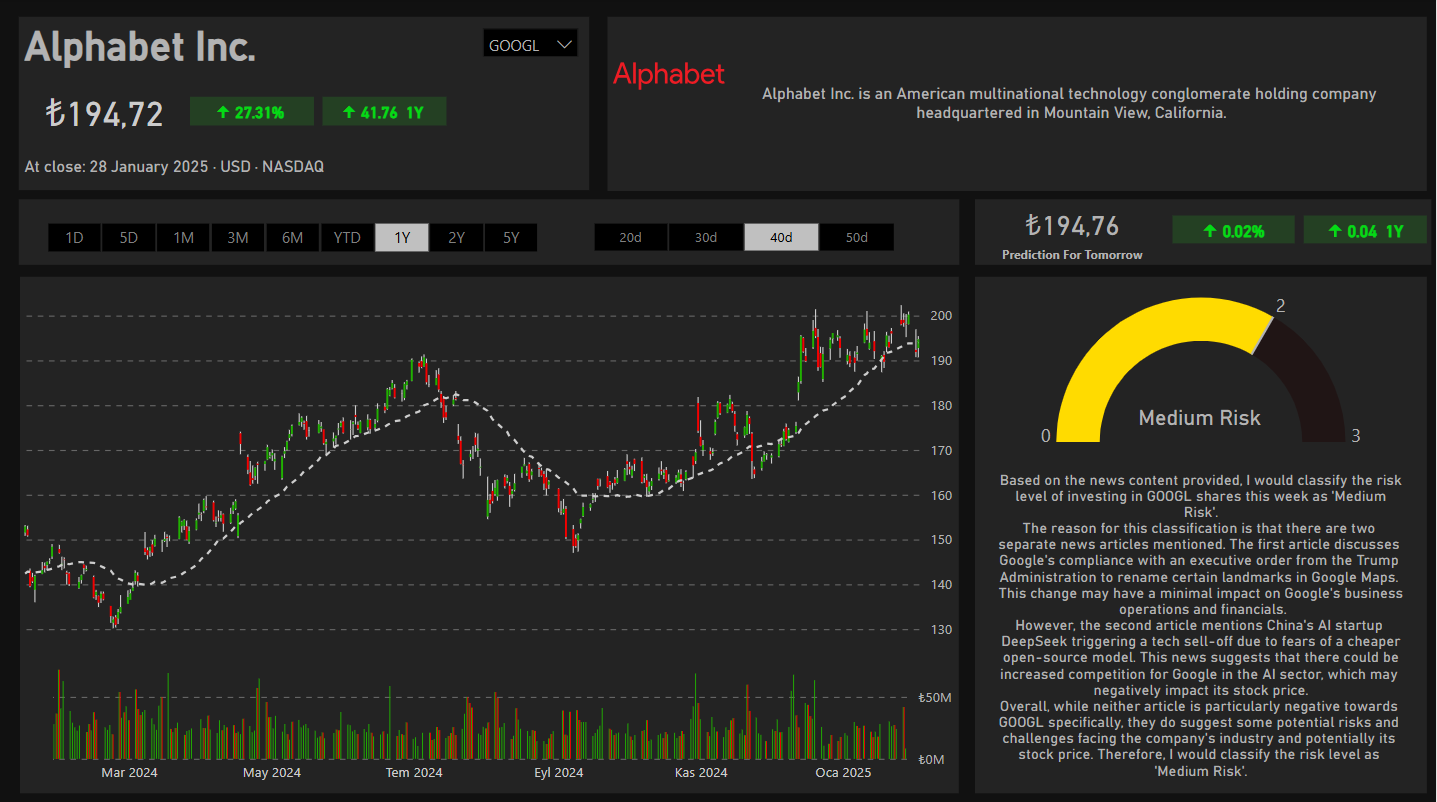

This screenshot's page, from the dashboard's own definition file:
{"tool":"powerbi","page":{"name":"Dashboard","canvas":[1280,720],"ordinal":0},"visuals":[{"type":"multiRowCard","fields":{"Values":["myMeasures.CompanyName"]},"box":[867.7,179.4,406.4,58.6],"z":0},{"type":"multiRowCard","fields":{"Values":["myMeasures.CompanyName"]},"box":[18.3,247.7,836,460.1],"z":1000},{"type":"multiRowCard","fields":{"Values":["myMeasures.CompanyName"]},"box":[17.1,179.4,837.2,58.6],"z":2000},{"type":"multiRowCard","fields":{"Values":["myMeasures.CompanyName"]},"box":[17.2,17.2,508,154.6],"z":3000},{"type":"lineStackedColumnComboChart","fields":{"Category":["data.Datetime"],"Y":["myMeasures.LowDistance","myMeasures.Low","myMeasures.BearishCandle","myMeasures.BullishCandle"],"Y2":["myMeasures.Low","myMeasures.High","myMeasures.Moving average"]},"box":[16.7,248.2,837.1,336.2],"z":4000},{"type":"card","fields":{"Values":["myMeasures.Last_Close"]},"box":[17.2,76.1,152.1,51.5],"z":5000},{"type":"multiRowCard","fields":{"Values":["myMeasures.CompanyName"]},"box":[17.2,17.2,380.4,52.8],"z":6000},{"type":"slicer","fields":{"Values":["data.Ticker"]},"box":[419.6,17.2,105.5,35.6],"z":7000},{"type":"multiRowCard","fields":{"Values":["myMeasures.At Close"]},"box":[17.2,137.4,397.5,34.4],"z":8000},{"type":"slicer","fields":{"Values":["dimPeriod.Period"]},"box":[17.2,193.9,485.9,35.6],"z":9000},{"type":"slicer","fields":{"Values":["tParameter.PeriodName"]},"box":[503.1,193.9,316.6,35.6],"z":10000},{"type":"card","fields":{"Values":["myMeasures.Variation %"]},"box":[169.3,88.3,110.4,25.8],"z":11000},{"type":"card","fields":{"Values":["myMeasures.Variation #"]},"box":[287.1,88.3,110.4,25.8],"z":12000},{"type":"clusteredColumnChart","fields":{"Category":["data.Datetime.Variation.Date Hierarchy.Year"],"Y":["myMeasures.Green Volume","myMeasures.Red Volume"]},"box":[17.1,584.6,837.2,123.3],"z":13000},{"type":"multiRowCard","fields":{"Values":["myMeasures.CompanyName"]},"box":[541.2,16.7,729.5,155],"z":14000},{"type":"multiRowCard","fields":{"Values":["Images.Logo URL"]},"box":[540.7,52.5,128.1,119.6],"z":15000},{"type":"multiRowCard","fields":{"Values":["myMeasures.CompanyName"]},"box":[867.7,247.7,402.7,460.1],"z":16000},{"type":"card","fields":{"Values":["myMeasures.PredictedTomorrow"]},"box":[866.5,179.4,178.2,58.6],"z":17000},{"type":"card","fields":{"Values":["myMeasures.Prediction Variation %"]},"box":[1044.7,194.1,108.6,24.4],"z":18000},{"type":"card","fields":{"Values":["myMeasures.Prediction Variation #"]},"box":[1160.6,194.1,109.8,24.4],"z":19000},{"type":"card","fields":{"Values":["Min(df.Summary)"]},"box":[639.5,19.5,631,147.7],"z":20000},{"type":"card","fields":{"Values":["Min(risks.Response)"]},"box":[867.7,416.2,402.7,291.7],"z":21000},{"type":"gauge","fields":{"Y":["myMeasures.ClassNumeric"],"MaxValue":["myMeasures.ClassMax"],"MinValue":["myMeasures.ClassMin"],"TargetValue":["myMeasures.ClassNumeric"]},"box":[867.7,247.7,402.7,157.4],"z":22000},{"type":"card","fields":{"Values":["Min(risks.Risk Classification)"]},"box":[1006.9,360,124.5,26.8],"z":23000}]}

Visuals, with their boxes in screenshot pixels (x1, y1, x2, y2), scaled from the page's 1280x720 canvas onto the 1437x802 screenshot:
multiRowCard - myMeasures.CompanyName: l=974, t=200, r=1430, b=265
multiRowCard - myMeasures.CompanyName: l=21, t=276, r=959, b=788
multiRowCard - myMeasures.CompanyName: l=19, t=200, r=959, b=265
multiRowCard - myMeasures.CompanyName: l=19, t=19, r=590, b=191
lineStackedColumnComboChart - data.Datetime x myMeasures.LowDistance: l=19, t=276, r=959, b=651
card - myMeasures.Last_Close: l=19, t=85, r=190, b=142
multiRowCard - myMeasures.CompanyName: l=19, t=19, r=446, b=78
slicer - data.Ticker: l=471, t=19, r=590, b=59
multiRowCard - myMeasures.At Close: l=19, t=153, r=466, b=191
slicer - dimPeriod.Period: l=19, t=216, r=565, b=256
slicer - tParameter.PeriodName: l=565, t=216, r=920, b=256
card - myMeasures.Variation %: l=190, t=98, r=314, b=127
card - myMeasures.Variation #: l=322, t=98, r=446, b=127
clusteredColumnChart - data.Datetime.Variation.Date Hierarchy.Year x myMeasures.Green Volume: l=19, t=651, r=959, b=789
multiRowCard - myMeasures.CompanyName: l=608, t=19, r=1427, b=191
multiRowCard - Images.Logo URL: l=607, t=58, r=751, b=192
multiRowCard - myMeasures.CompanyName: l=974, t=276, r=1426, b=788
card - myMeasures.PredictedTomorrow: l=973, t=200, r=1173, b=265
card - myMeasures.Prediction Variation %: l=1173, t=216, r=1295, b=243
card - myMeasures.Prediction Variation #: l=1303, t=216, r=1426, b=243
card - Min(df.Summary): l=718, t=22, r=1426, b=186
card - Min(risks.Response): l=974, t=464, r=1426, b=789
gauge - myMeasures.ClassNumeric x myMeasures.ClassMax: l=974, t=276, r=1426, b=451
card - Min(risks.Risk Classification): l=1130, t=401, r=1270, b=431
